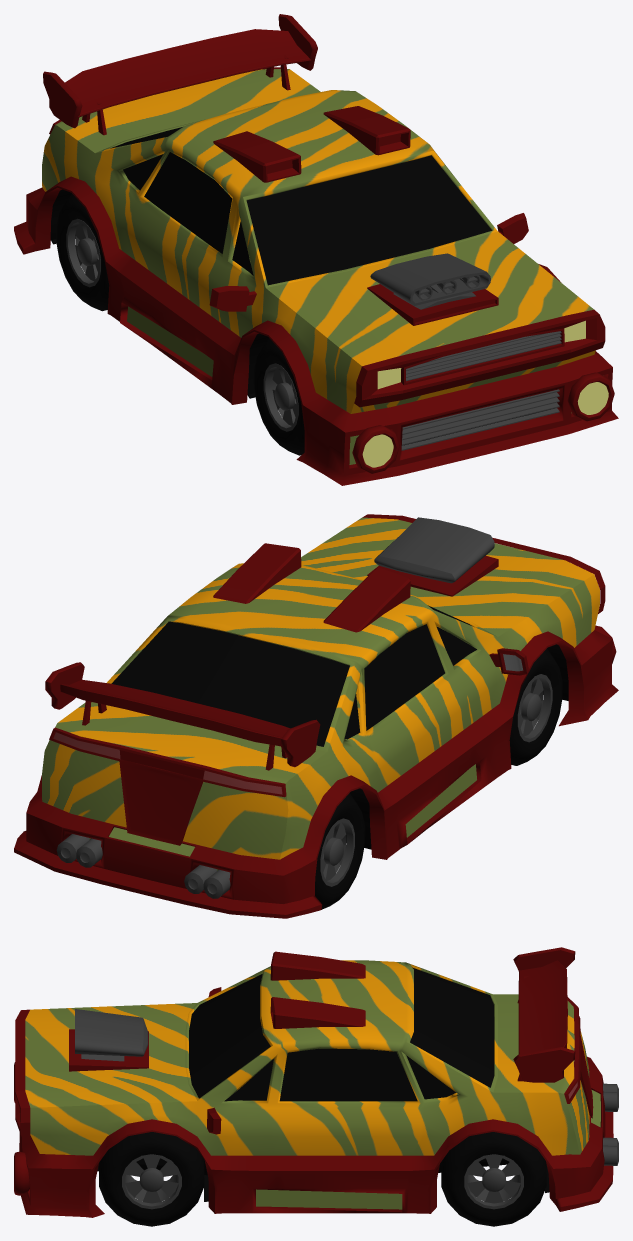
The model's file is Muscle Evolution4 DarkRed ZebraOrangeKaki Black DarkGrey.glb.
The picture shows the model from 3 angles, top to bottom: view 1: azimuth 30°, elevation 25°; view 2: azimuth 150°, elevation 25°; view 3: azimuth 270°, elevation 25°; orthographic projection. The views are drawn at different scales.
Visible parts, largest first — view 1: evo4_sillPartR_f1_dupl, evo4_evo4_polySurface1_f1_dupl, evo4_frontGlass_f1_dupl, evo4_Spoiler4_f1_dupl, evo4_frontBlockGrid_f1_dupl, evo4_glasseBigR_f1_dupl, evo4_engine_f1_dupl, evo4_front_down_grid_f1_dupl, evo4_airtrap_r_f1_dupl, evo4_airtrap_l_f1_dupl, evo4_front_up_grid_f1_dupl, evo4_tire_rf_f1_dupl (+11 smaller); view 2: evo4_sillPartR_f1_dupl, evo4_evo4_polySurface1_f1_dupl, evo4_BackGlassGlass_f1_dupl, evo4_Spoiler4_f1_dupl, evo4_blockBackLights_f1_dupl, evo4_engine_f1_dupl, evo4_glasseBigR_f1_dupl, evo4_airtrap_r_f1_dupl, evo4_airtrap_l_f1_dupl, evo4_tire_rf2_f1_dupl, evo4_tire_rf_f1_dupl, evo4_rim_A_rf_f1_dupl (+9 smaller); view 3: evo4_sillPartR_f1_dupl, evo4_evo4_polySurface1_f1_dupl, evo4_BackGlassGlass_f1_dupl, evo4_Spoiler4_f1_dupl, evo4_glasseBigL_f1_dupl, evo4_frontGlass_f1_dupl, evo4_tire_lf_f1_dupl, evo4_tire_lb_f1_dupl, evo4_engine_f1_dupl, evo4_rim_A_lf_f1_dupl, evo4_rim_A_lb_f1_dupl, evo4_airtrap_l_f1_dupl (+9 smaller).
Boxes of the visible parts, box(x1,y1,x2,y2) form: evo4_sillPartR_f1_dupl: box(42, 69, 595, 464); evo4_evo4_polySurface1_f1_dupl: box(14, 176, 618, 485); evo4_frontGlass_f1_dupl: box(246, 155, 491, 285); evo4_Spoiler4_f1_dupl: box(43, 14, 317, 135); evo4_frontBlockGrid_f1_dupl: box(354, 309, 605, 407); evo4_glasseBigR_f1_dupl: box(144, 152, 232, 253); evo4_engine_f1_dupl: box(370, 253, 490, 309); evo4_front_down_grid_f1_dupl: box(401, 389, 559, 450); evo4_airtrap_r_f1_dupl: box(213, 131, 301, 182); evo4_airtrap_l_f1_dupl: box(323, 106, 410, 155); evo4_front_up_grid_f1_dupl: box(406, 331, 561, 381); evo4_tire_rf_f1_dupl: box(56, 194, 109, 311); evo4_sillPartR_f1_dupl: box(42, 517, 599, 870); evo4_evo4_polySurface1_f1_dupl: box(14, 630, 618, 918); evo4_BackGlassGlass_f1_dupl: box(111, 621, 349, 746); evo4_Spoiler4_f1_dupl: box(45, 662, 320, 770); evo4_blockBackLights_f1_dupl: box(49, 727, 286, 845); evo4_engine_f1_dupl: box(374, 517, 494, 583); evo4_glasseBigR_f1_dupl: box(364, 624, 444, 730); evo4_airtrap_r_f1_dupl: box(323, 567, 410, 632); evo4_airtrap_l_f1_dupl: box(213, 543, 301, 603); evo4_tire_rf2_f1_dupl: box(509, 648, 562, 765); evo4_tire_rf_f1_dupl: box(315, 793, 365, 909); evo4_rim_A_rf_f1_dupl: box(517, 674, 552, 742); evo4_sillPartR_f1_dupl: box(25, 960, 600, 1209); evo4_evo4_polySurface1_f1_dupl: box(19, 1056, 613, 1217); evo4_BackGlassGlass_f1_dupl: box(410, 967, 494, 1087); evo4_Spoiler4_f1_dupl: box(513, 947, 575, 1082); evo4_glasseBigL_f1_dupl: box(279, 1048, 417, 1101); evo4_frontGlass_f1_dupl: box(189, 974, 270, 1098); evo4_tire_lf_f1_dupl: box(99, 1132, 204, 1226); evo4_tire_lb_f1_dupl: box(441, 1132, 546, 1226); evo4_engine_f1_dupl: box(75, 1009, 148, 1061); evo4_rim_A_lf_f1_dupl: box(122, 1154, 181, 1209); evo4_rim_A_lb_f1_dupl: box(464, 1154, 523, 1209); evo4_airtrap_l_f1_dupl: box(270, 997, 365, 1028).
Bounding box in the file's own units: 177 × 120 × 337.
Materials: 8 (1 with a texture image).
